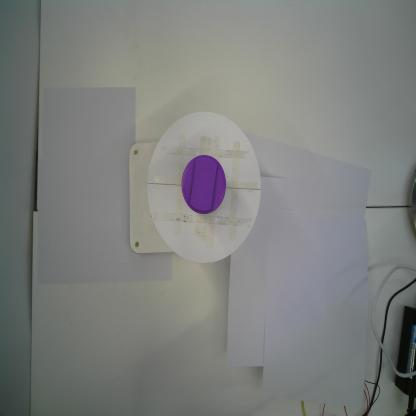Canned Food: (181, 154, 226, 215)
